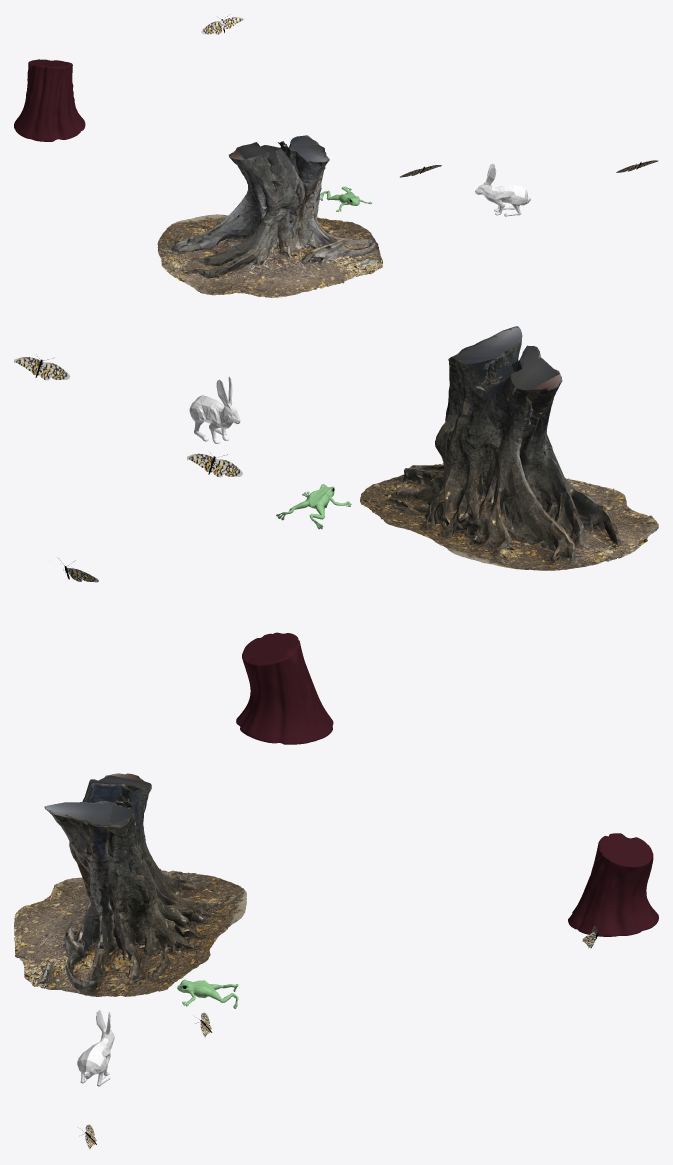
The model's file is animals.obj.
3 renders of one model, top to bottom at view 1: azimuth 30°, elevation 25°; view 2: azimuth 150°, elevation 25°; view 3: azimuth 270°, elevation 25°, orthographic. The views are drawn at different scales.
Visible parts, largest first — view 1: TREE_TRUNK_26_10K, tree_stomp, Plane, Froggy_Mesh; view 2: TREE_TRUNK_26_10K, tree_stomp, Plane, Froggy_Mesh; view 3: TREE_TRUNK_26_10K, tree_stomp, Plane, Froggy_Mesh.
Boxes of the visible parts, bbox=[...] form: TREE_TRUNK_26_10K: bbox=[157, 135, 382, 297]; tree_stomp: bbox=[14, 59, 85, 141]; Plane: bbox=[475, 163, 531, 216]; Froggy_Mesh: bbox=[319, 186, 371, 211]; TREE_TRUNK_26_10K: bbox=[360, 326, 658, 570]; tree_stomp: bbox=[236, 632, 333, 744]; Plane: bbox=[189, 376, 240, 443]; Froggy_Mesh: bbox=[276, 484, 351, 529]; TREE_TRUNK_26_10K: bbox=[14, 773, 246, 996]; tree_stomp: bbox=[568, 833, 658, 936]; Plane: bbox=[77, 1010, 114, 1086]; Froggy_Mesh: bbox=[177, 979, 238, 1008].
Size of the model in its own units: 350 by 86.48 by 325.
